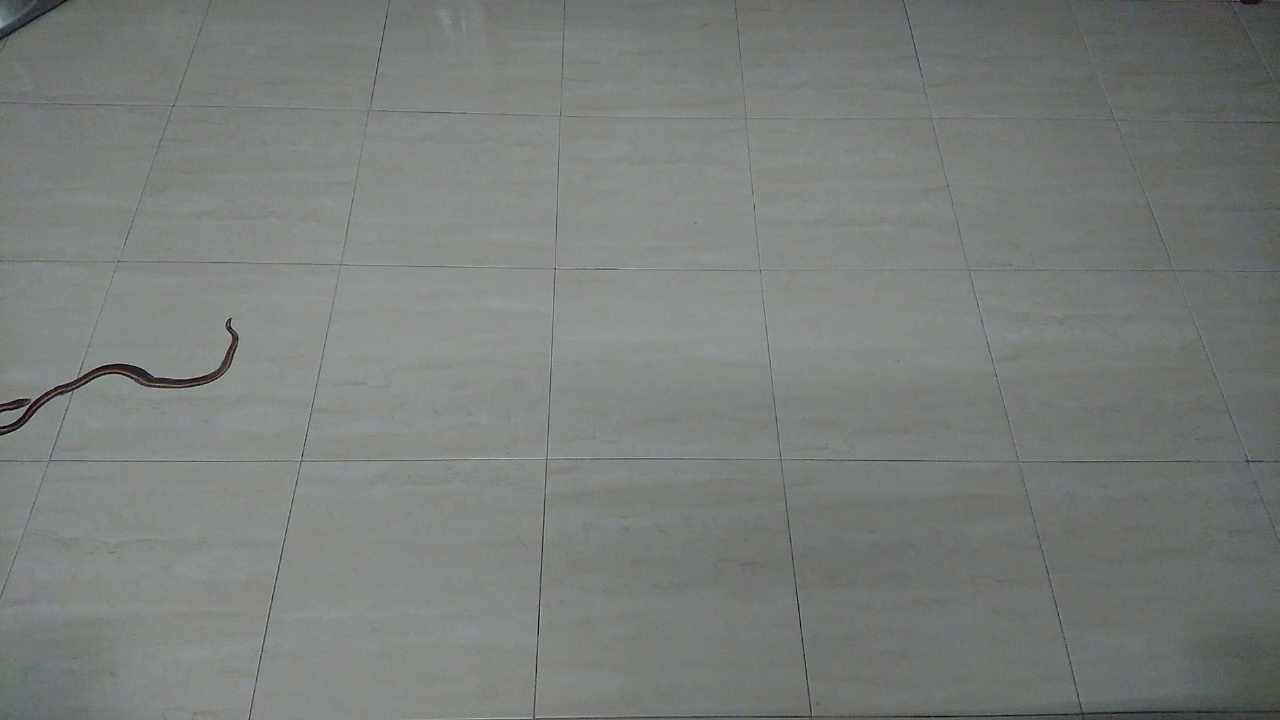snake: (1, 305, 260, 449)
